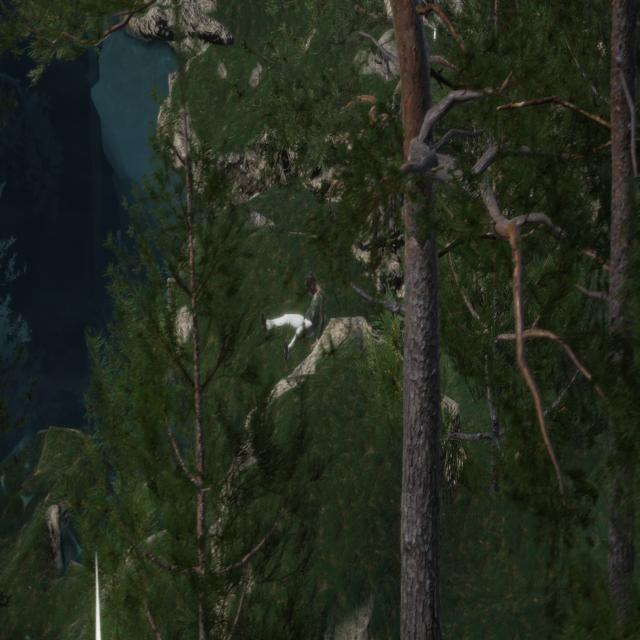Human: (256, 263, 328, 363)
